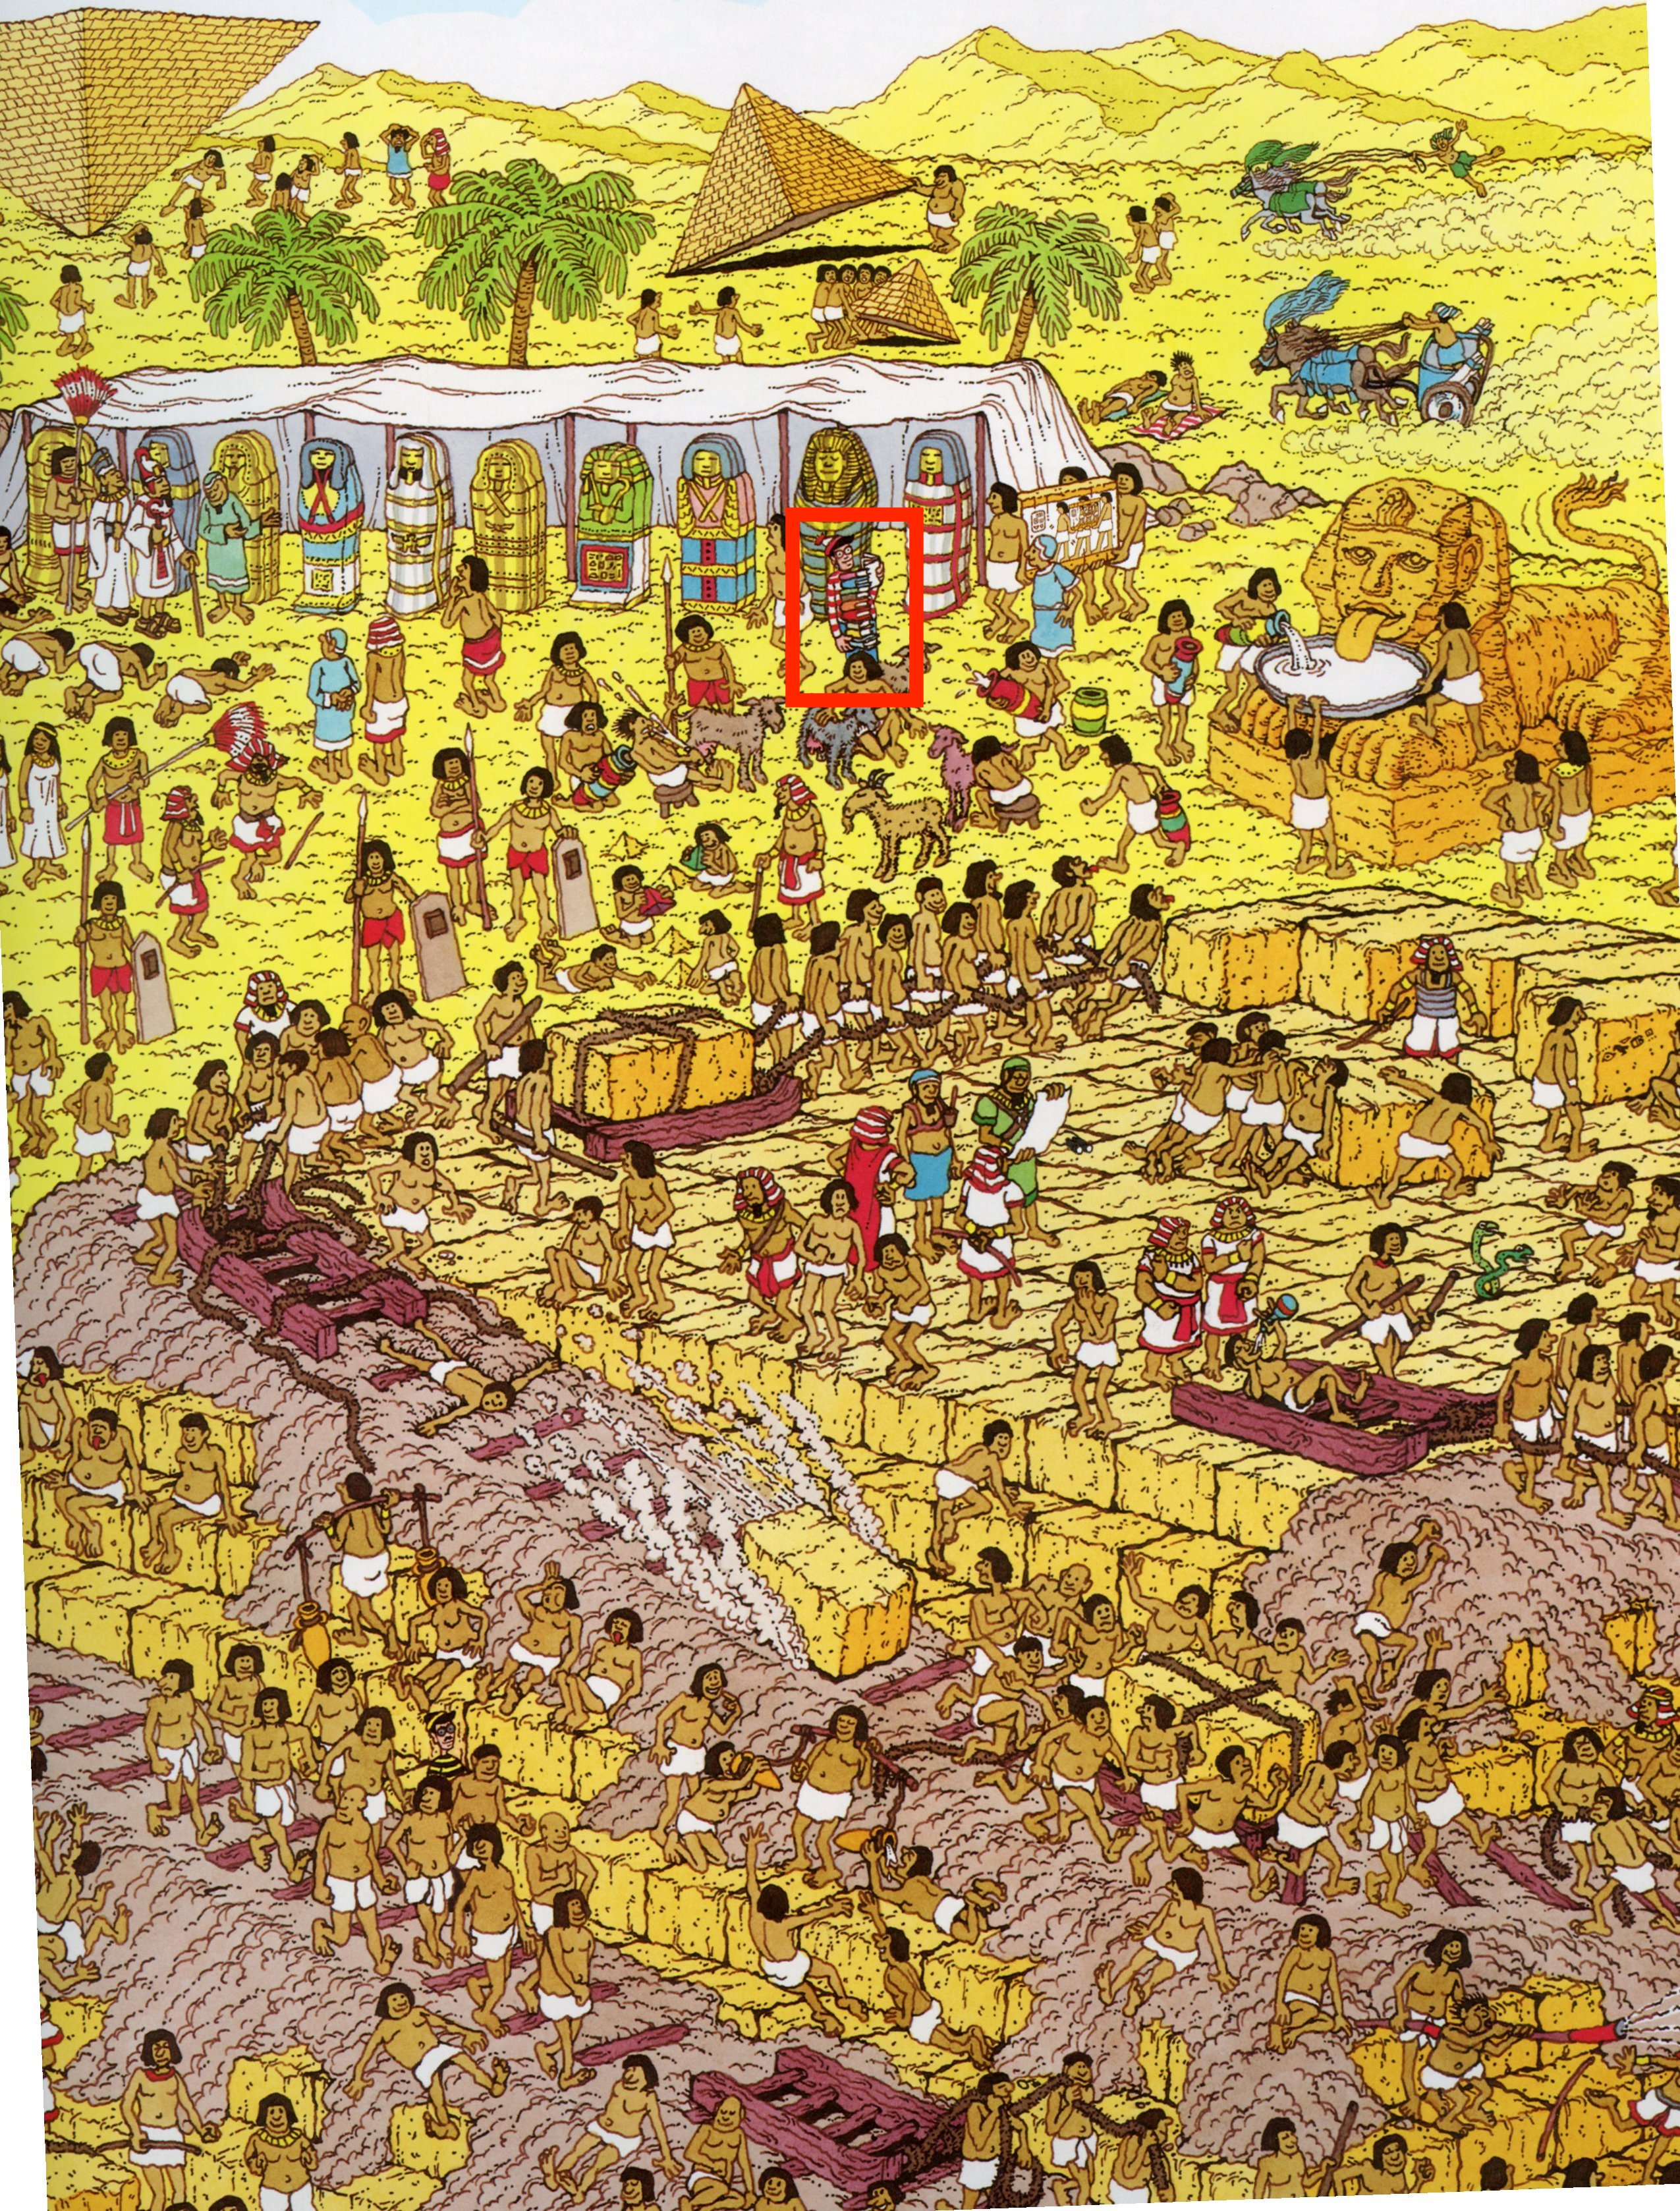waldo: (798, 515, 923, 716)
